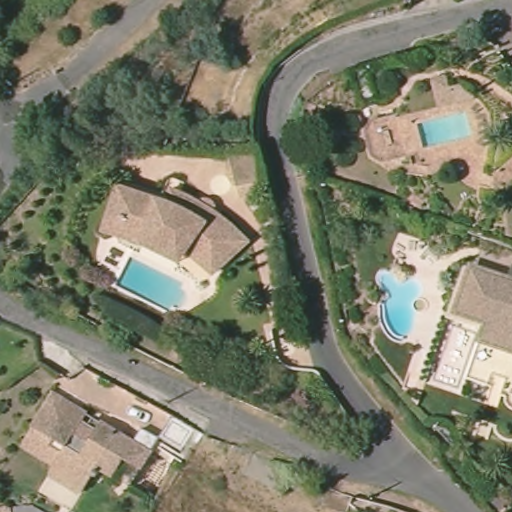pool: (113, 254, 188, 312), (378, 268, 423, 343), (414, 111, 475, 150)
